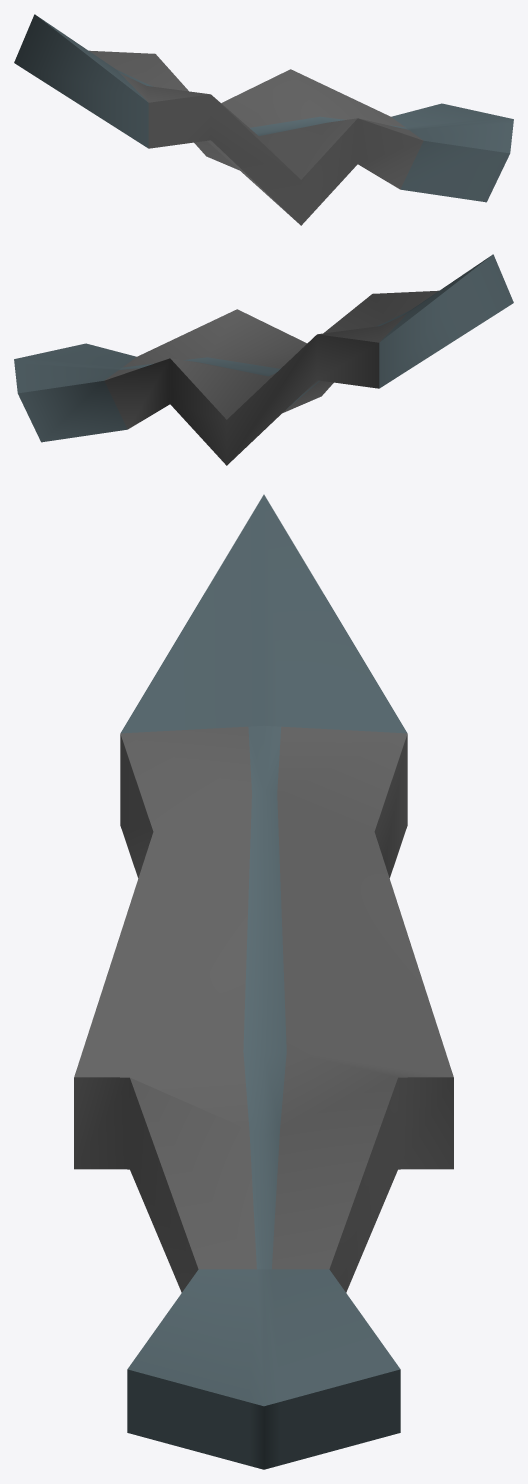
The model's file is soulstone.fbx.
3 renders of one model, top to bottom at view 1: azimuth 30°, elevation 25°; view 2: azimuth 150°, elevation 25°; view 3: azimuth 270°, elevation 25°, orthographic. The views are drawn at different scales.
Visible parts, largest first — view 1: SoulStone; view 2: SoulStone; view 3: SoulStone.
Part boxes in pixels (x1,y1,x2,y2): SoulStone: [14, 14, 513, 225]; SoulStone: [14, 254, 513, 465]; SoulStone: [74, 494, 453, 1469].
Bounding box in the file's own units: 1.42 × 0.7193 × 0.4665.
